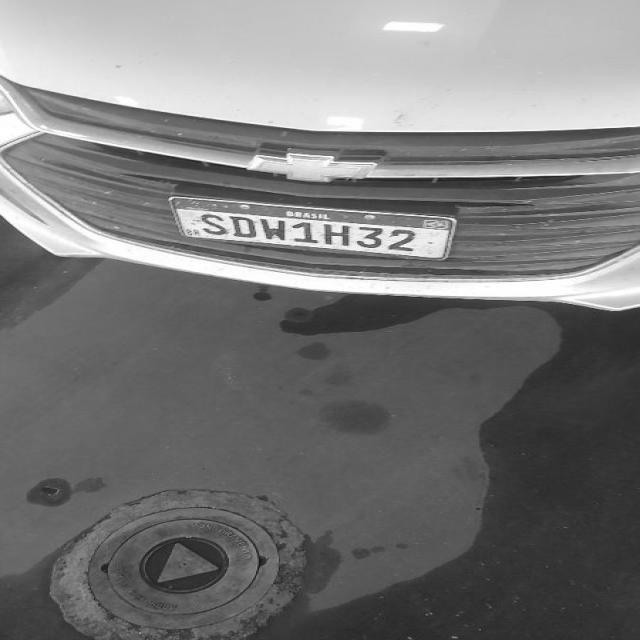placa_mercosul: (171, 197, 456, 259)
